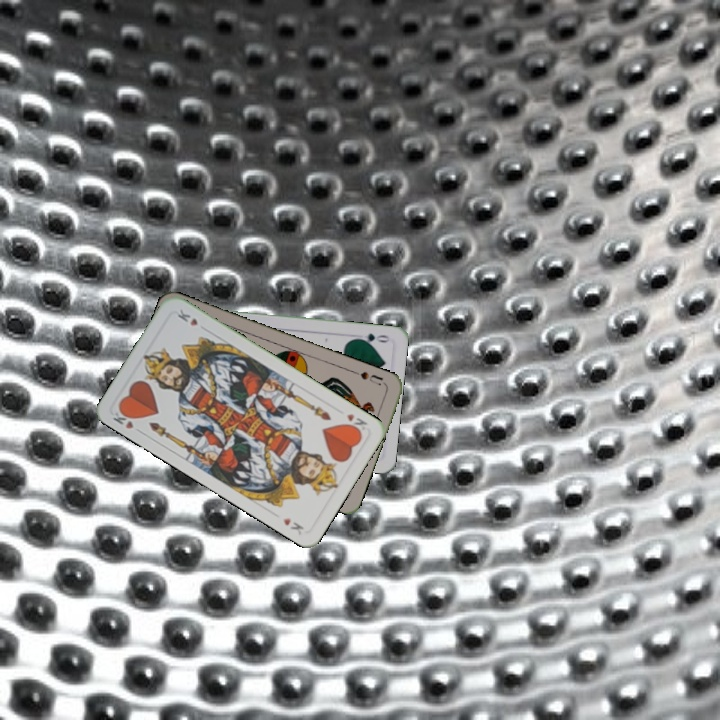GO: (351, 329, 392, 346)
HK: (109, 404, 145, 436), (342, 409, 370, 436)
SU: (349, 367, 385, 388)
